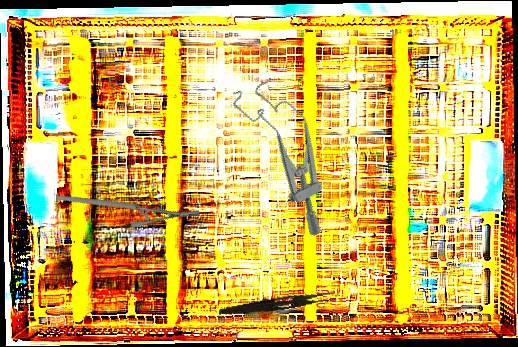Dressing Forceps: (218, 287, 337, 321)
Needle Holder: (55, 151, 202, 259)
Speculum: (227, 68, 354, 243)
